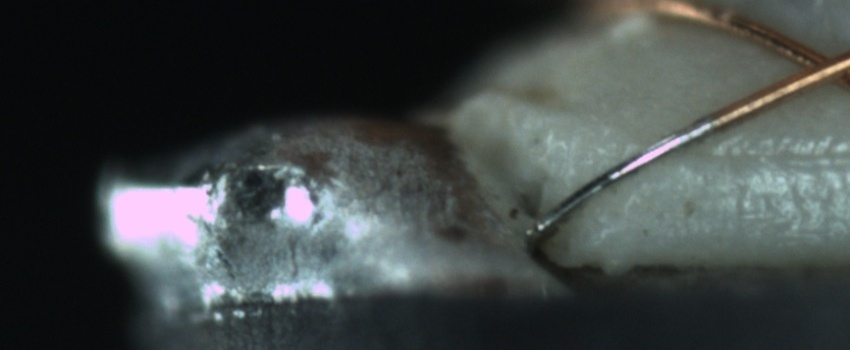CL: (774, 32, 850, 96)
DL: (697, 127, 849, 186)
TS: (526, 119, 715, 242)
